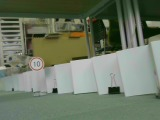speed_10: (28, 55, 46, 72)
